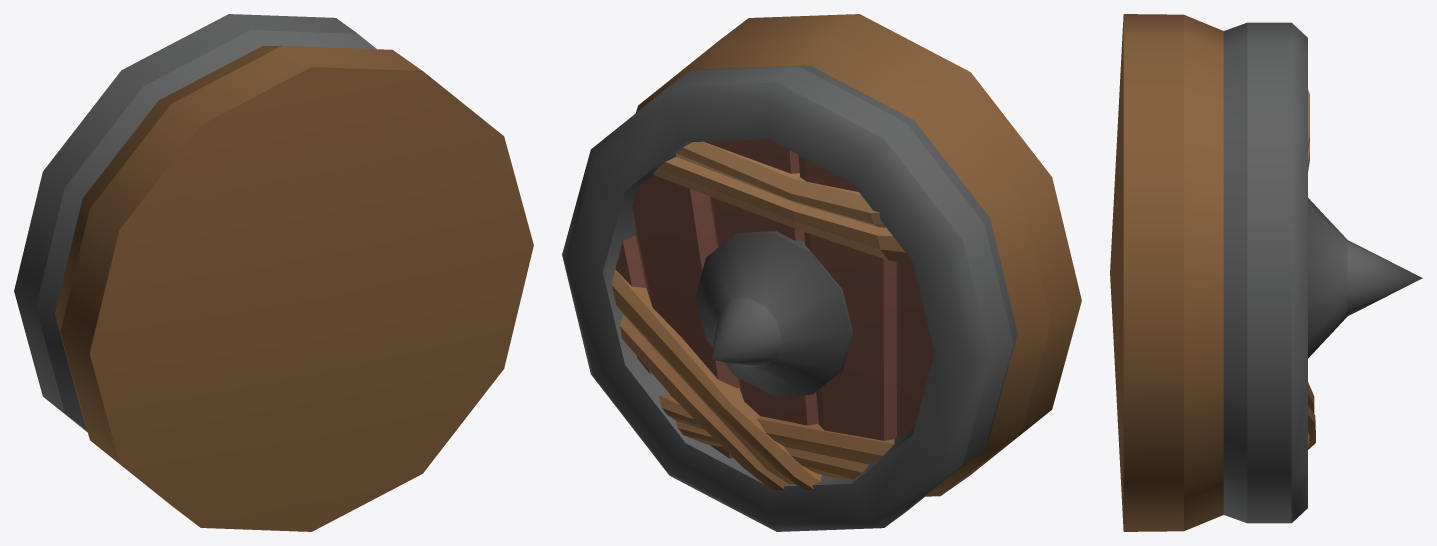
The model's file is Back_7.fbx.
3 renders of one model, left to right at view 1: azimuth 30°, elevation 25°; view 2: azimuth 150°, elevation 25°; view 3: azimuth 270°, elevation 25°, orthographic.
Visible parts, largest first — view 1: Back_7; view 2: Back_7; view 3: Back_7.
Part boxes in pixels (x1,y1,x2,y2): Back_7: [14, 14, 533, 531]; Back_7: [562, 14, 1081, 531]; Back_7: [1110, 14, 1422, 531].
Bounding box in the file's own units: 56.07 × 56.07 × 33.75.
